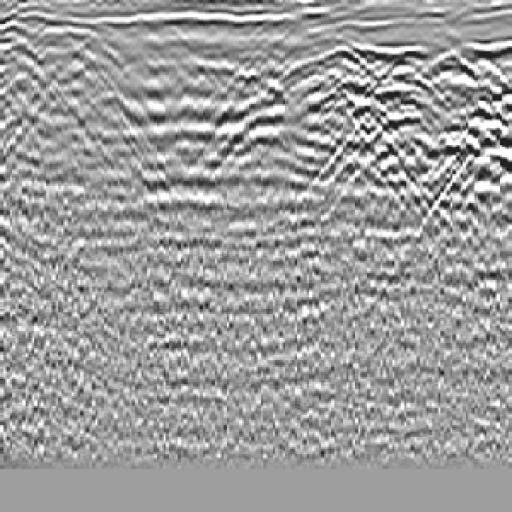non-metallic: (311, 31, 512, 255)
